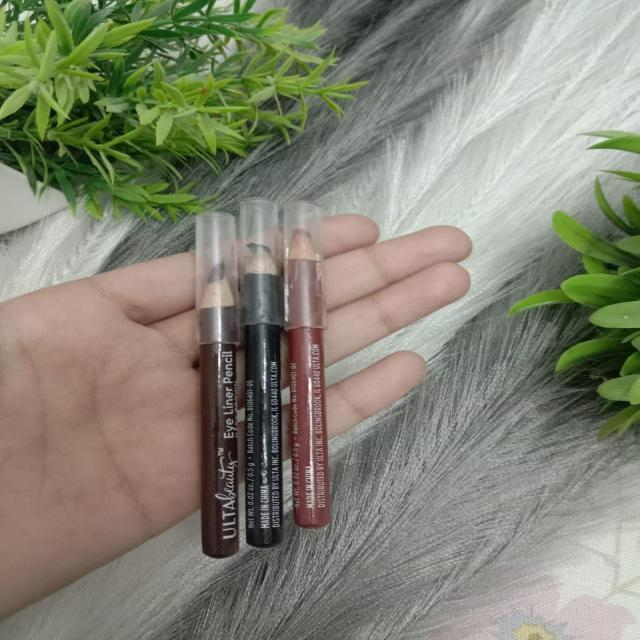lip liner: (272, 197, 340, 528), (236, 192, 294, 574), (192, 195, 248, 582)
